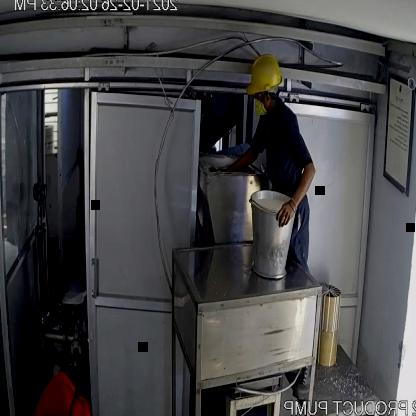helmet: (242, 50, 288, 102)
